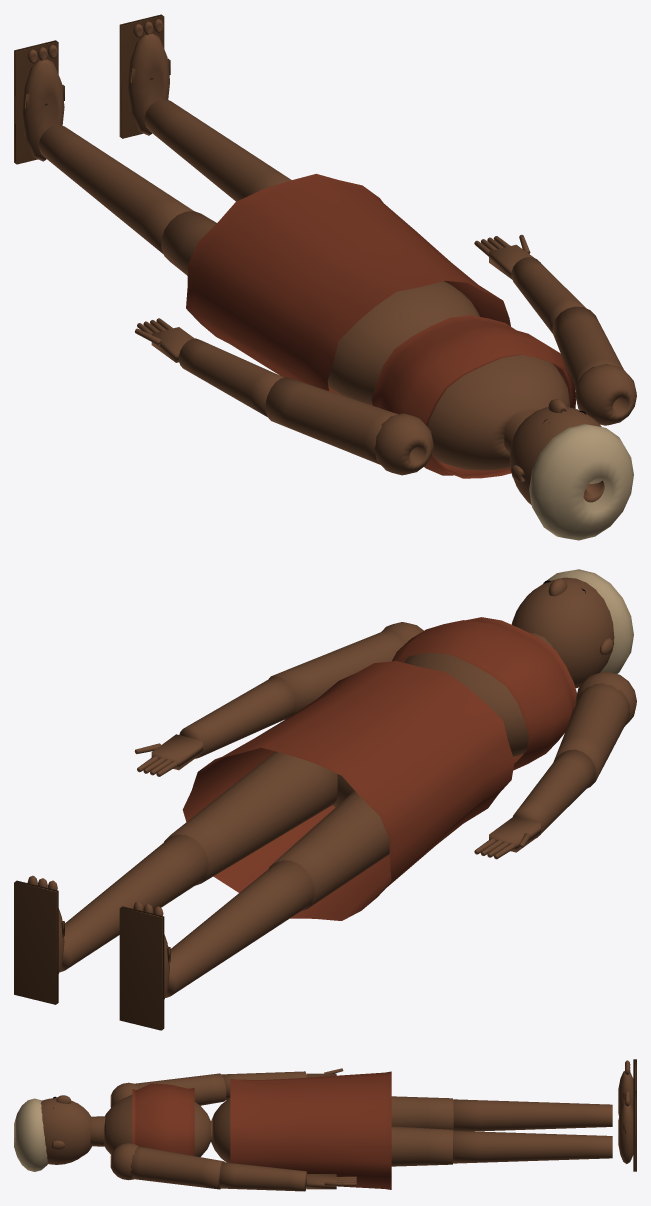
File: NPC_CIVILIAN_F1_EARTHRED.obj
3 renders of one model, top to bottom at view 1: azimuth 30°, elevation 25°; view 2: azimuth 150°, elevation 25°; view 3: azimuth 270°, elevation 25°, orthographic. The views are drawn at different scales.
Visible parts, largest first — view 1: wrapper_skirt, chest_wrapper, shin_foot.L, torso, shin_foot.R, head_tie, upperarm.L, pelvis, upperarm.R, forearm_hand.L, forearm_hand.R, head (+3 smaller); view 2: wrapper_skirt, chest_wrapper, thigh.R, shin_foot.L, shin_foot.R, head, thigh.L, forearm_hand.R, sandal.L, sandal.R, forearm_hand.L, upperarm.L (+3 smaller); view 3: wrapper_skirt, shin_foot.R, shin_foot.L, chest_wrapper, upperarm.R, head, forearm_hand.R, thigh.R, torso, thigh.L, head_tie, upperarm.L (+3 smaller).
Part boxes in pixels (box(x1,y1,x2,y2)): wrapper_skirt: box(186, 173, 510, 394); chest_wrapper: box(371, 315, 575, 478); shin_foot.L: box(22, 44, 193, 253); torso: box(427, 355, 569, 470); shin_foot.R: box(127, 19, 291, 201); head_tie: box(529, 424, 633, 540); upperarm.L: box(265, 377, 433, 475); pelvis: box(327, 281, 479, 405); upperarm.R: box(552, 306, 636, 425); forearm_hand.L: box(135, 318, 283, 416); forearm_hand.R: box(474, 234, 585, 333); head: box(504, 406, 604, 504); wrapper_skirt: box(182, 661, 514, 920); chest_wrapper: box(392, 617, 576, 770); thigh.R: box(164, 751, 337, 885); shin_foot.L: box(133, 860, 314, 999); shin_foot.R: box(27, 834, 208, 973); head: box(511, 577, 614, 688); thigh.L: box(269, 790, 389, 911); forearm_hand.R: box(134, 677, 294, 776); sandal.L: box(119, 906, 170, 1030); sandal.R: box(14, 880, 64, 1004); forearm_hand.L: box(474, 749, 595, 859); upperarm.L: box(553, 671, 636, 788); wrapper_skirt: box(230, 1071, 391, 1189); shin_foot.R: box(453, 1092, 633, 1163); shin_foot.L: box(453, 1060, 633, 1131); chest_wrapper: box(132, 1083, 194, 1155); upperarm.R: box(110, 1143, 224, 1189); head: box(40, 1098, 105, 1164); forearm_hand.R: box(219, 1162, 356, 1191); thigh.R: box(391, 1126, 453, 1166); torso: box(103, 1095, 210, 1156); thigh.L: box(391, 1096, 453, 1130); head_tie: box(14, 1098, 47, 1171); upperarm.L: box(110, 1073, 226, 1107).
Bounding box in the file's own units: 0.7818 × 0.3242 × 1.78.
